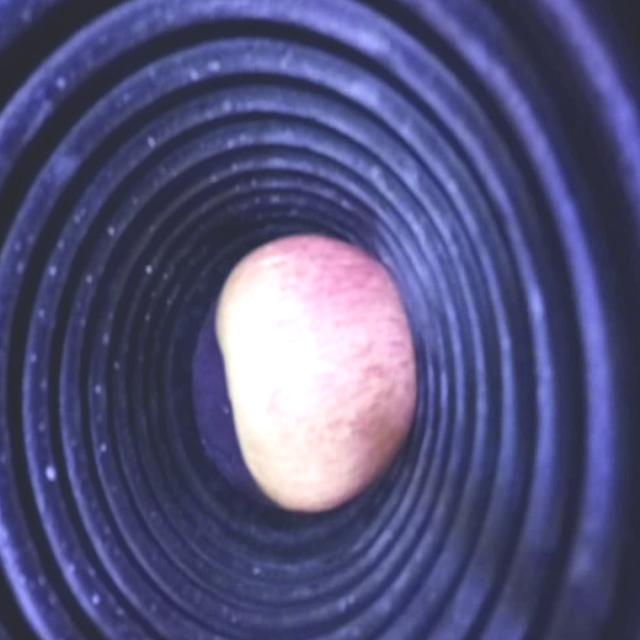obstacles: (216, 235, 419, 513)
